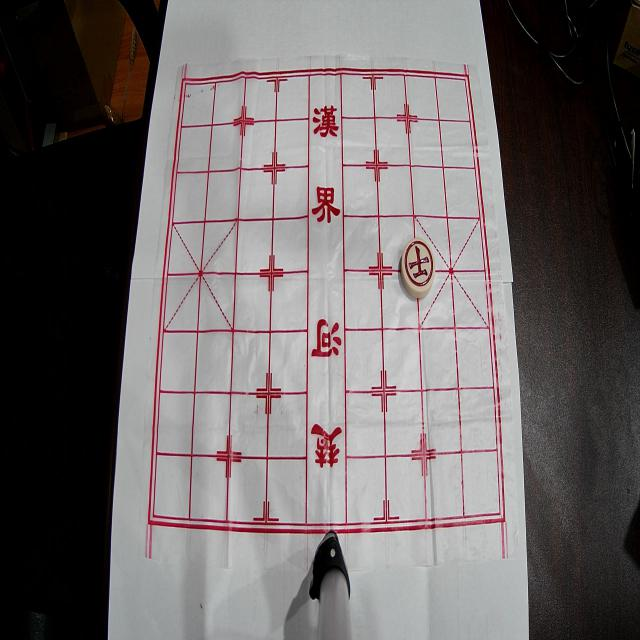red-guard: (400, 238, 436, 298)
